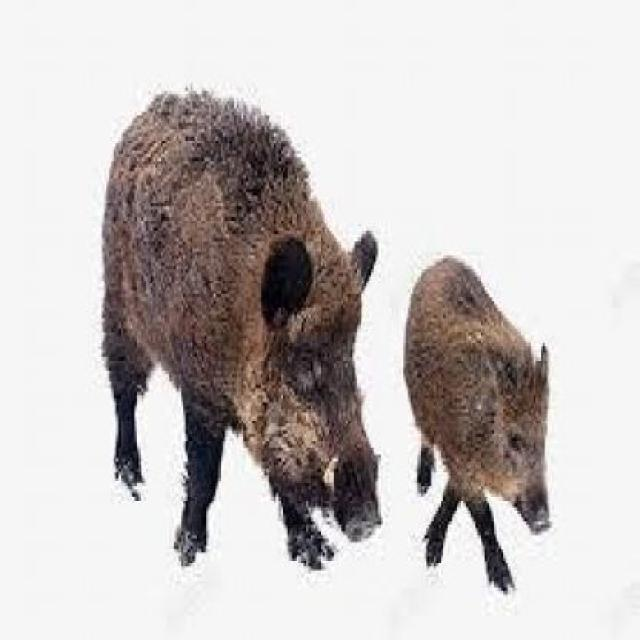wildboar: (95, 81, 387, 579), (398, 246, 556, 596)
